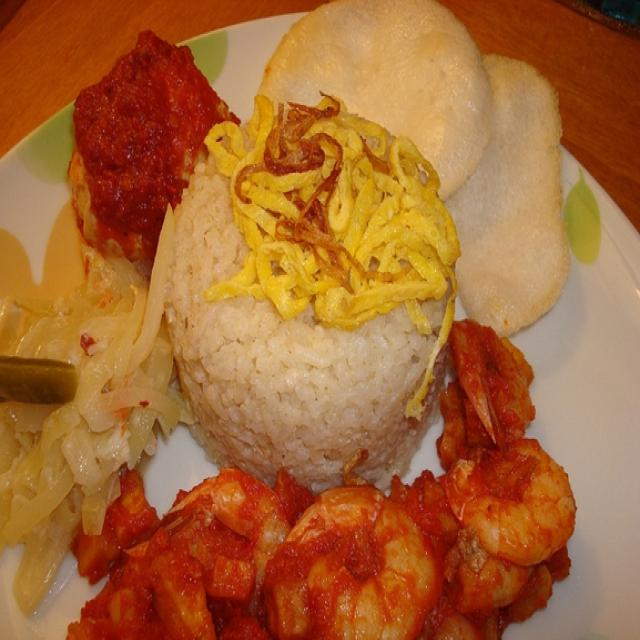米饭主食: (15, 13, 599, 626)
